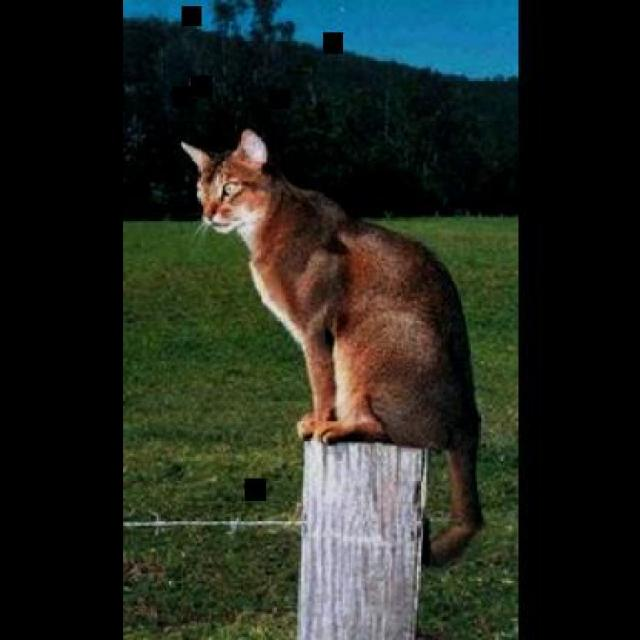unauthorized: (178, 126, 484, 566)
